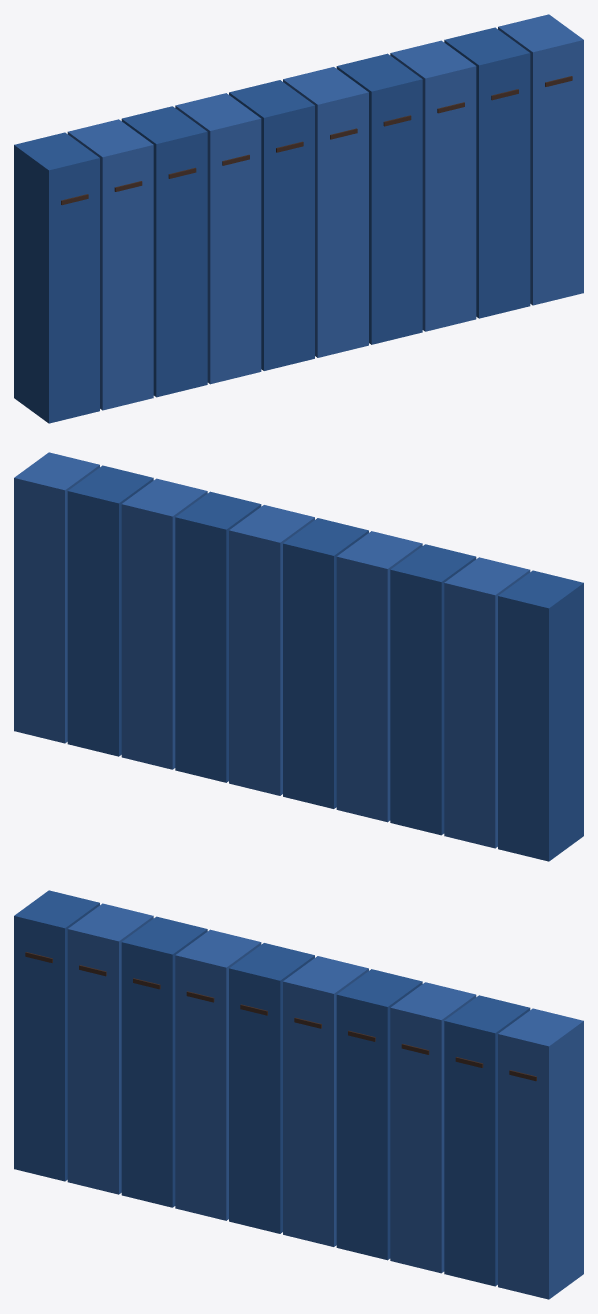
File: lockers.glb
The picture shows the model from 3 angles, top to bottom: view 1: azimuth 30°, elevation 25°; view 2: azimuth 150°, elevation 25°; view 3: azimuth 330°, elevation 25°; orthographic projection.
Visible parts, largest first — view 1: Box1, Box15, Box7, Box17, Box5, Box13, Box19, Box3, Box9, Box11; view 2: Box1, Box5, Box15, Box17, Box7, Box13, Box19, Box3, Box11, Box9; view 3: Box19, Box5, Box3, Box13, Box15, Box7, Box1, Box11, Box17, Box9.
Boxes of the visible parts, x1=… form: Box1: x1=14, y1=132, x2=99, y2=423; Box15: x1=390, y1=40, x2=476, y2=331; Box7: x1=175, y1=93, x2=261, y2=384; Box17: x1=444, y1=27, x2=530, y2=318; Box5: x1=121, y1=106, x2=207, y2=397; Box13: x1=336, y1=53, x2=422, y2=344; Box19: x1=498, y1=14, x2=583, y2=305; Box3: x1=67, y1=119, x2=153, y2=410; Box9: x1=229, y1=80, x2=314, y2=370; Box11: x1=283, y1=67, x2=368, y2=357; Box1: x1=498, y1=570, x2=583, y2=861; Box5: x1=390, y1=544, x2=476, y2=835; Box15: x1=121, y1=478, x2=207, y2=769; Box17: x1=67, y1=465, x2=153, y2=756; Box7: x1=336, y1=531, x2=422, y2=822; Box13: x1=175, y1=491, x2=261, y2=782; Box19: x1=14, y1=452, x2=99, y2=743; Box3: x1=444, y1=557, x2=530, y2=848; Box11: x1=229, y1=505, x2=314, y2=795; Box9: x1=283, y1=518, x2=368, y2=808; Box19: x1=498, y1=1008, x2=583, y2=1299; Box5: x1=121, y1=916, x2=207, y2=1207; Box3: x1=67, y1=903, x2=153, y2=1194; Box13: x1=336, y1=969, x2=422, y2=1260; Box15: x1=390, y1=982, x2=476, y2=1273; Box7: x1=175, y1=929, x2=261, y2=1220; Box1: x1=14, y1=890, x2=99, y2=1181; Box11: x1=283, y1=956, x2=368, y2=1246; Box17: x1=444, y1=995, x2=530, y2=1286; Box9: x1=229, y1=943, x2=314, y2=1233.
Size of the model in its own units: 3.98 by 1.8 by 0.46.
